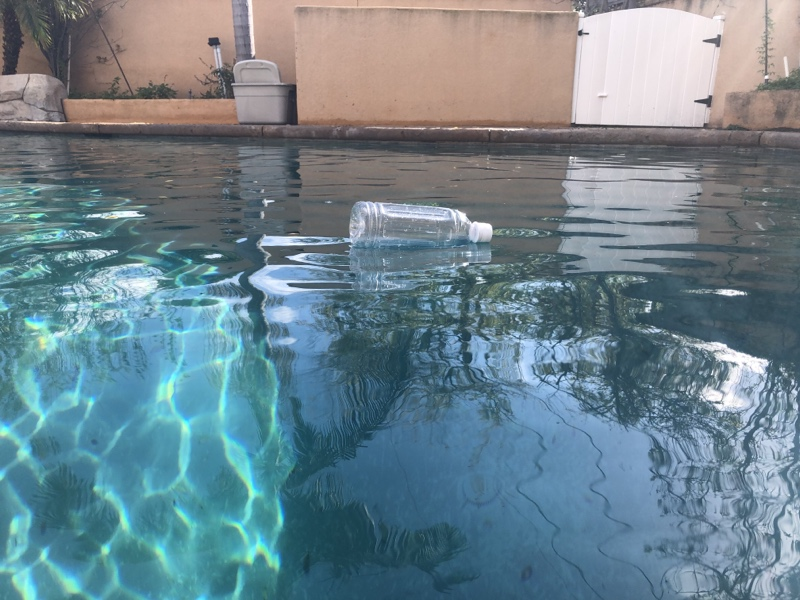Plastic Bottle: (347, 200, 497, 259)
